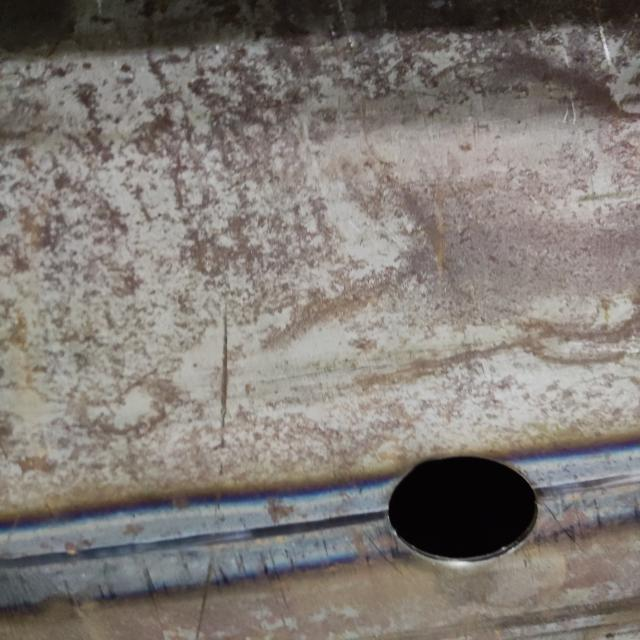seam: (0, 426, 640, 640)
